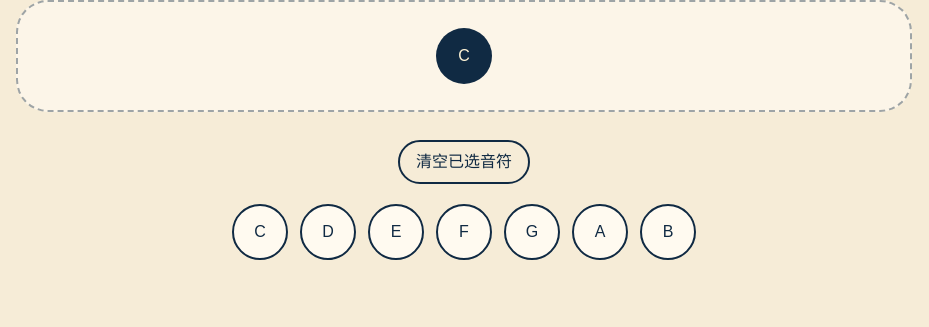
Scenario: adds chord tones and reports interval semitones from the root
This screenshot has width=929, height=327.
Click the button named "添加 E".
click(396, 232)  # box [368,204,424,260]
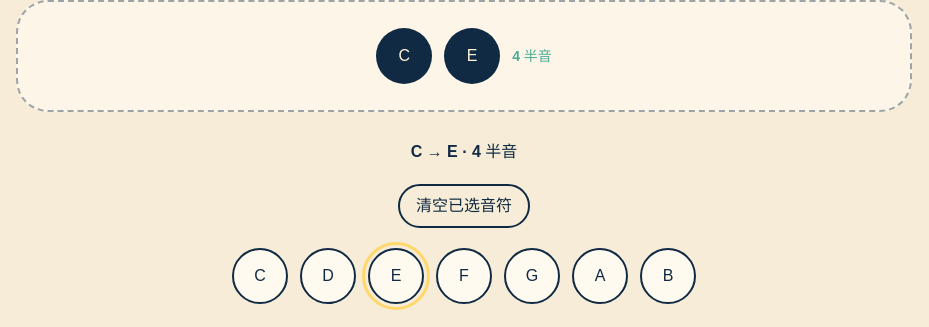
Check: the text "C → E · 4 半音" is shown, box [411,143,517,160]
